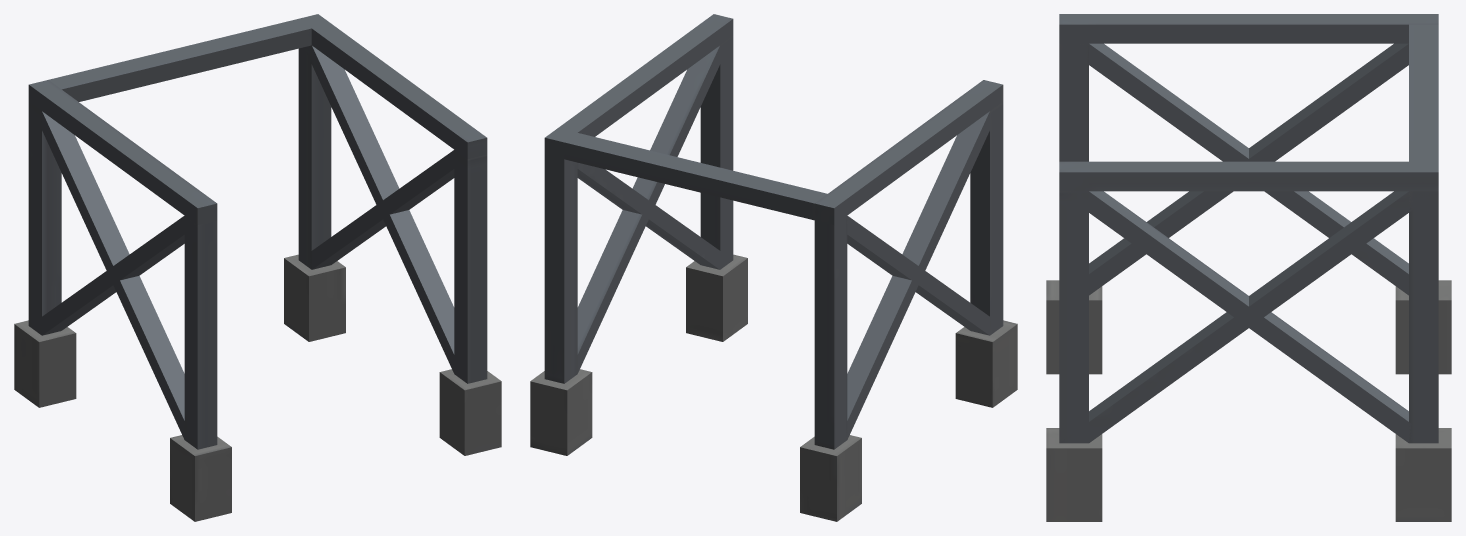
File: SM_Env_Track_Raised_Bridge_Straight_04.glb
3 renders of one model, left to right at view 1: azimuth 30°, elevation 25°; view 2: azimuth 150°, elevation 25°; view 3: azimuth 270°, elevation 25°, orthographic. The views are drawn at different scales.
Parts seen in each view (by area): view 1: SM_Env_Track_Raised_Bridge_Straight_04; view 2: SM_Env_Track_Raised_Bridge_Straight_04; view 3: SM_Env_Track_Raised_Bridge_Straight_04.
Part boxes in pixels (bbox=[...]): SM_Env_Track_Raised_Bridge_Straight_04: bbox=[14, 14, 501, 521]; SM_Env_Track_Raised_Bridge_Straight_04: bbox=[530, 14, 1017, 521]; SM_Env_Track_Raised_Bridge_Straight_04: bbox=[1046, 14, 1451, 521].
Bounding box in the file's own units: 11.37 × 10.88 × 11.6.
Materials: 1 (1 with a texture image).
